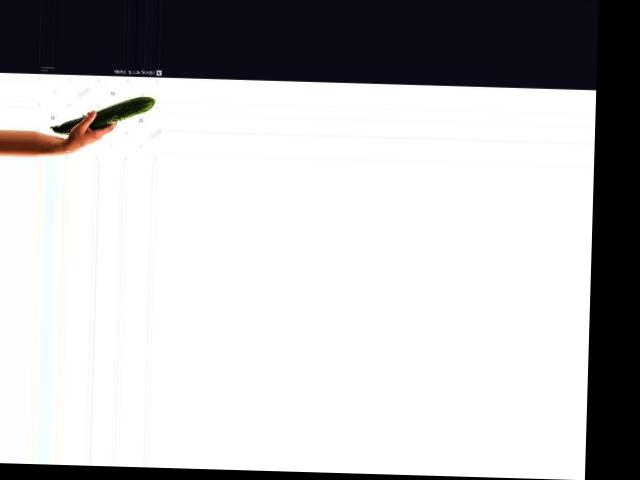cucumber: (49, 93, 155, 137)
